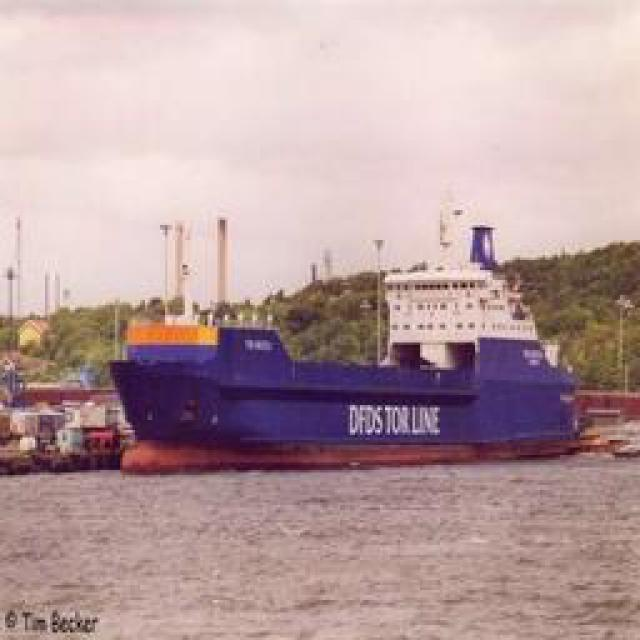Ship: (115, 226, 583, 461)
